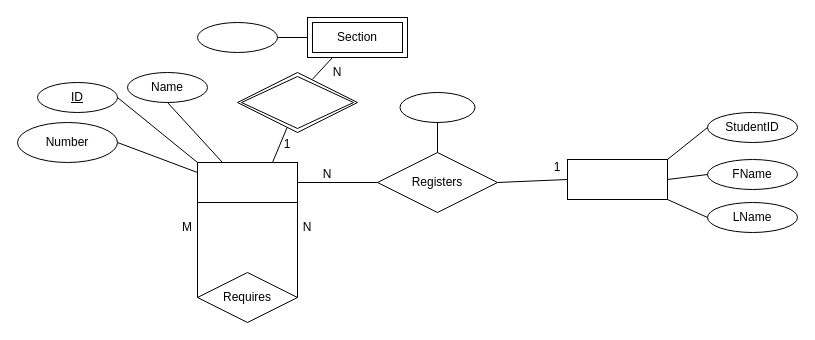
This 815x340 diagram has some shape labels left out. Here are the shapes that lost their labels. From the top down, the box of each, then its label:
(196, 22, 278, 52): SectionNum
(236, 72, 358, 132): Section_Of
(399, 92, 475, 122): Grade
(196, 162, 298, 202): Course
(566, 158, 668, 200): Student
